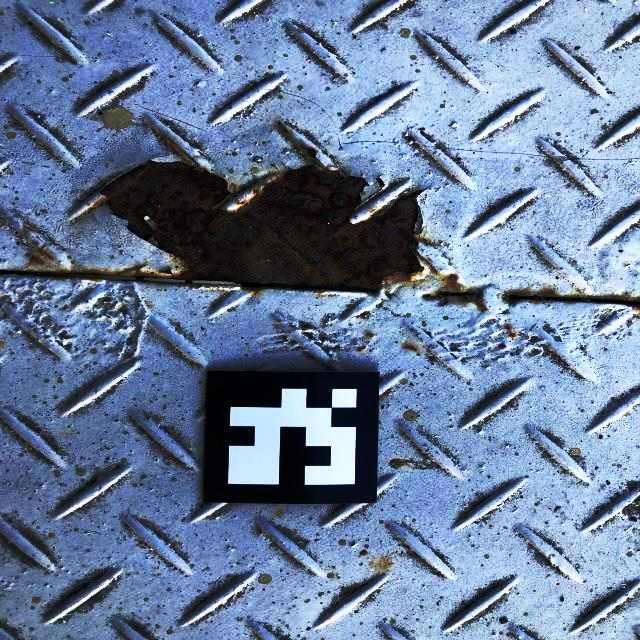Corrosion: (99, 161, 425, 289), (304, 146, 320, 161), (161, 267, 173, 274)
